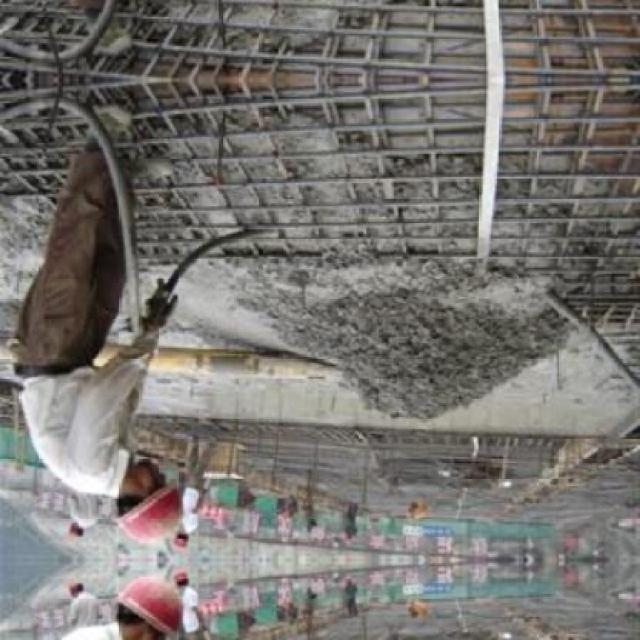con casco: (50, 424, 201, 562)
